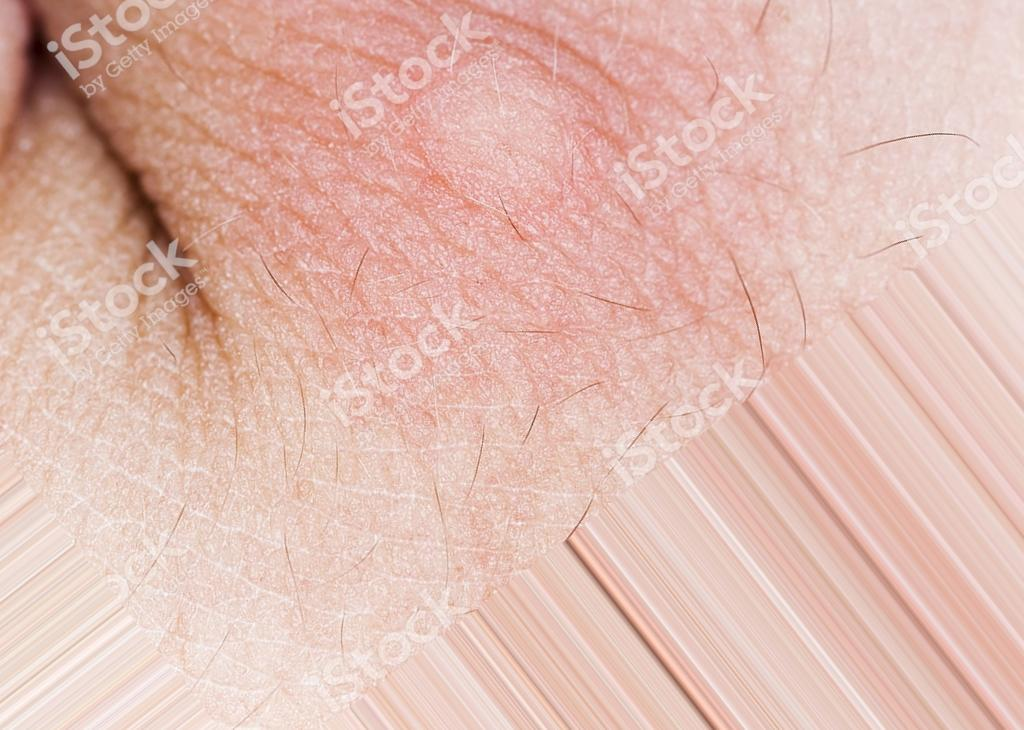Mosquito: (397, 34, 612, 252)
